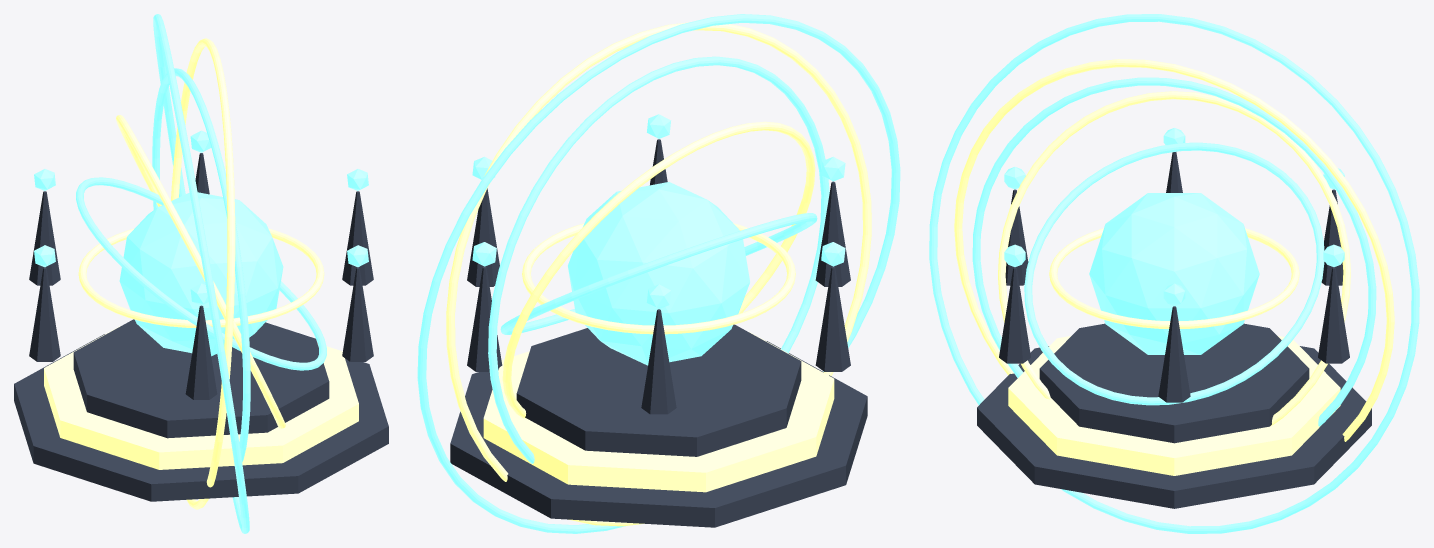
File: gpu-blender-v30.glb
The picture shows the model from 3 angles, left to right: view 1: azimuth 30°, elevation 25°; view 2: azimuth 150°, elevation 25°; view 3: azimuth 270°, elevation 25°; orthographic projection. The views are drawn at different scales.
Visible parts, largest first — view 1: Cylinder.002, Cylinder, SovereignCore_zoth-swarm-multiplexer, Cylinder.001, Torus.005, Torus.004, Torus.003, Torus.001, Torus, Torus.002, Cone.003, Cone.005 (+3 smaller); view 2: Cylinder.002, SovereignCore_zoth-swarm-multiplexer, Cylinder, Cylinder.001, Torus.005, Torus.004, Torus.003, Torus.002, Torus.001, Torus, Cone.002, Cone.003 (+3 smaller); view 3: SovereignCore_zoth-swarm-multiplexer, Cylinder.002, Cylinder, Cylinder.001, Torus.005, Torus.004, Torus.001, Torus.003, Torus.002, Torus, Cone, Cone.001 (+3 smaller).
Boxes of the visible parts, x1=… form: Cylinder.002: x1=73, y1=319, x2=329, y2=438; Cylinder: x1=14, y1=334, x2=388, y2=501; SovereignCore_zoth-swarm-multiplexer: x1=119, y1=192, x2=283, y2=356; Cylinder.001: x1=44, y1=326, x2=358, y2=469; Torus.005: x1=153, y1=14, x2=249, y2=533; Torus.004: x1=171, y1=38, x2=235, y2=509; Torus.003: x1=152, y1=68, x2=250, y2=461; Torus.001: x1=76, y1=177, x2=326, y2=370; Torus: x1=78, y1=228, x2=324, y2=327; Torus.002: x1=116, y1=115, x2=285, y2=428; Cone.003: x1=29, y1=267, x2=60, y2=361; Cone.005: x1=342, y1=267, x2=373, y2=361; Cylinder.002: x1=516, y1=324, x2=801, y2=456; SovereignCore_zoth-swarm-multiplexer: x1=568, y1=182, x2=749, y2=365; Cylinder: x1=450, y1=341, x2=867, y2=527; Cylinder.001: x1=483, y1=332, x2=834, y2=492; Torus.005: x1=417, y1=14, x2=900, y2=533; Torus.004: x1=446, y1=22, x2=871, y2=526; Torus.003: x1=488, y1=56, x2=829, y2=463; Torus.002: x1=502, y1=121, x2=815, y2=418; Torus.001: x1=500, y1=213, x2=817, y2=334; Torus: x1=522, y1=223, x2=795, y2=334; Cone.002: x1=641, y1=309, x2=676, y2=414; Cone.003: x1=815, y1=267, x2=850, y2=371; SovereignCore_zoth-swarm-multiplexer: x1=1089, y1=193, x2=1259, y2=354; Cylinder.002: x1=1039, y1=323, x2=1309, y2=443; Cylinder: x1=977, y1=346, x2=1371, y2=508; Cylinder.001: x1=1008, y1=336, x2=1340, y2=475; Torus.005: x1=929, y1=14, x2=1419, y2=533; Torus.004: x1=954, y1=59, x2=1394, y2=441; Torus.001: x1=1024, y1=142, x2=1324, y2=405; Torus.003: x1=972, y1=77, x2=1376, y2=426; Torus.002: x1=998, y1=91, x2=1350, y2=425; Torus: x1=1049, y1=228, x2=1299, y2=328; Cone: x1=1158, y1=306, x2=1190, y2=402; Cone.001: x1=1318, y1=267, x2=1349, y2=363.
Bounding box in the file's own units: 4.41 × 5.93 × 5.46.
